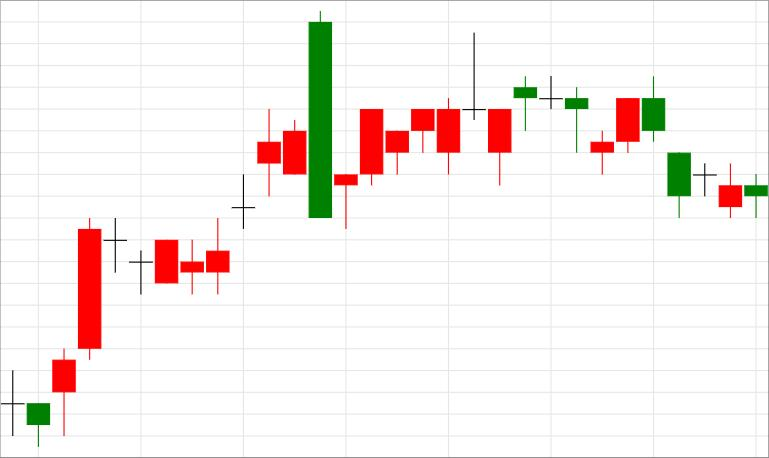bearish_engulfing_fall: (53, 12, 333, 436)
